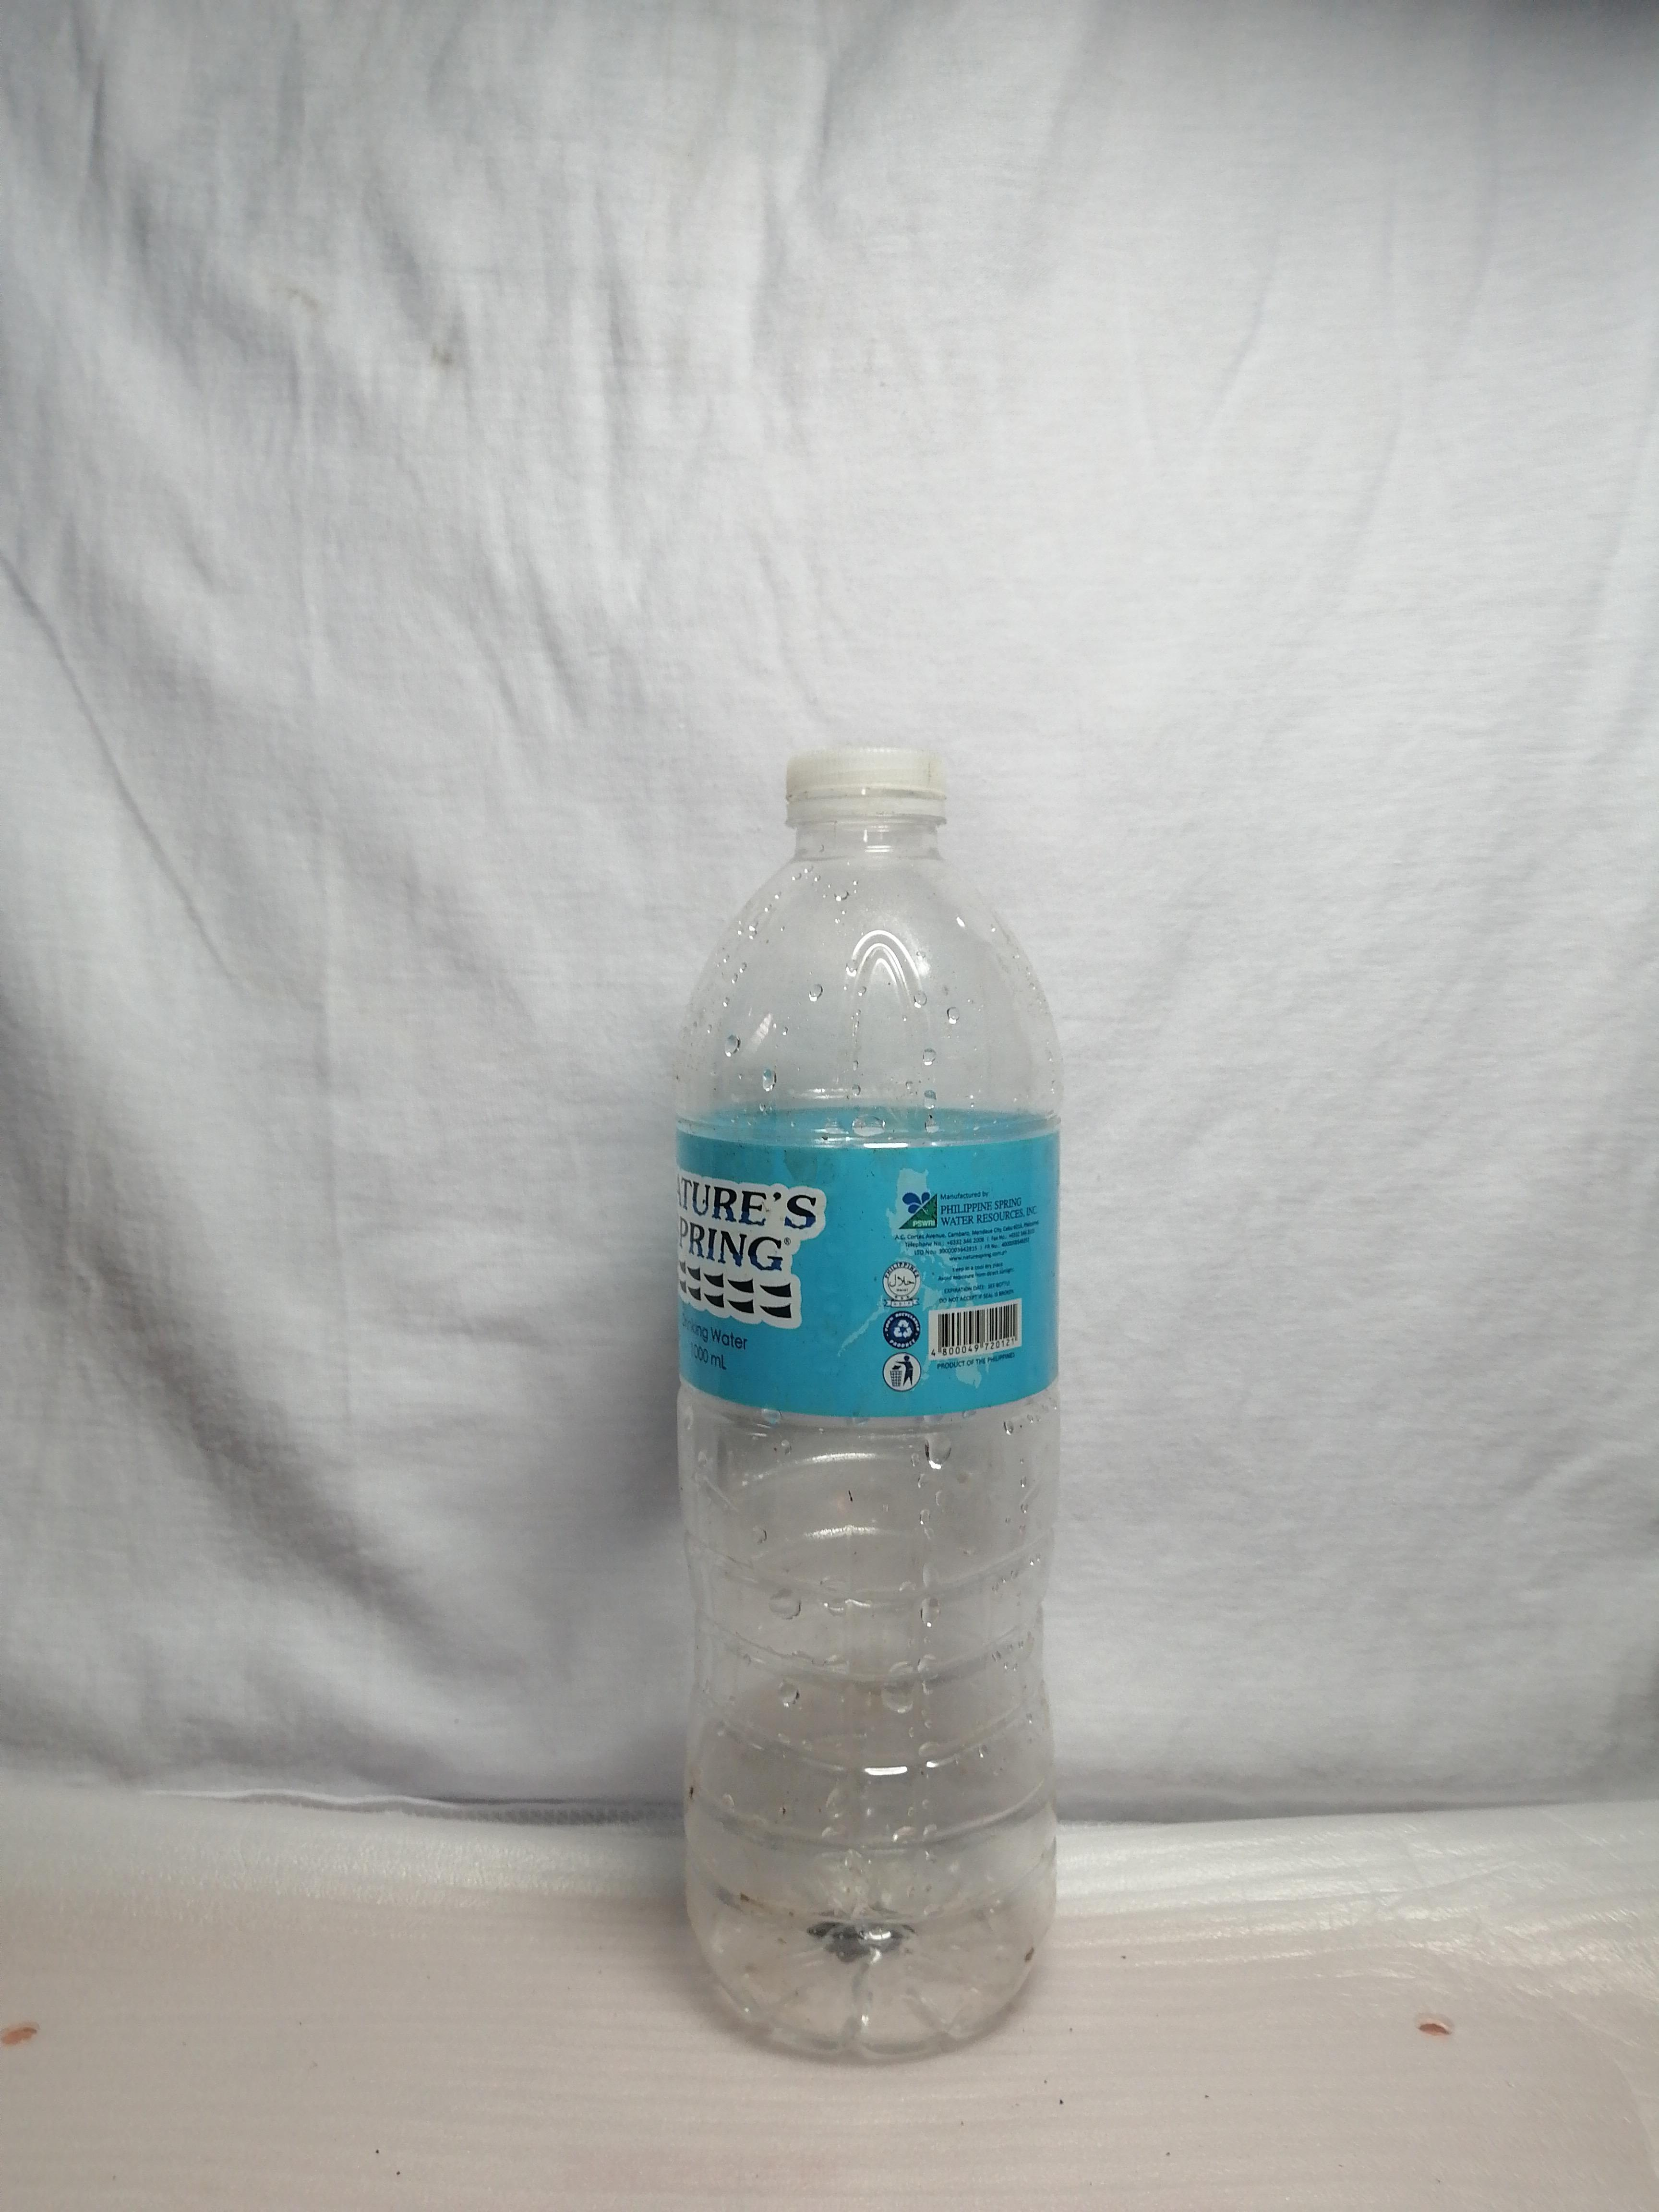plastic-bottle: (619, 720, 1114, 2079)
